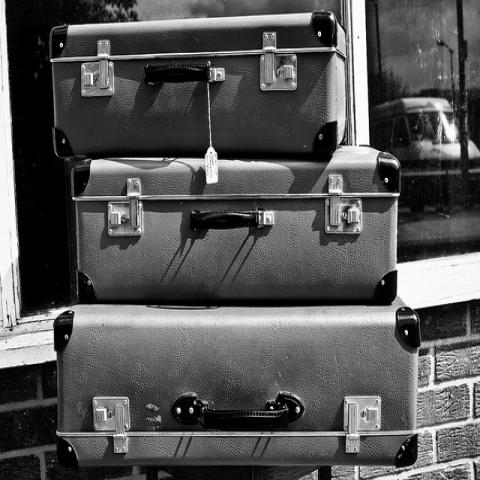truck: (368, 96, 480, 172)
